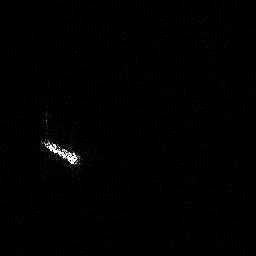ship: (39, 135, 83, 168)
